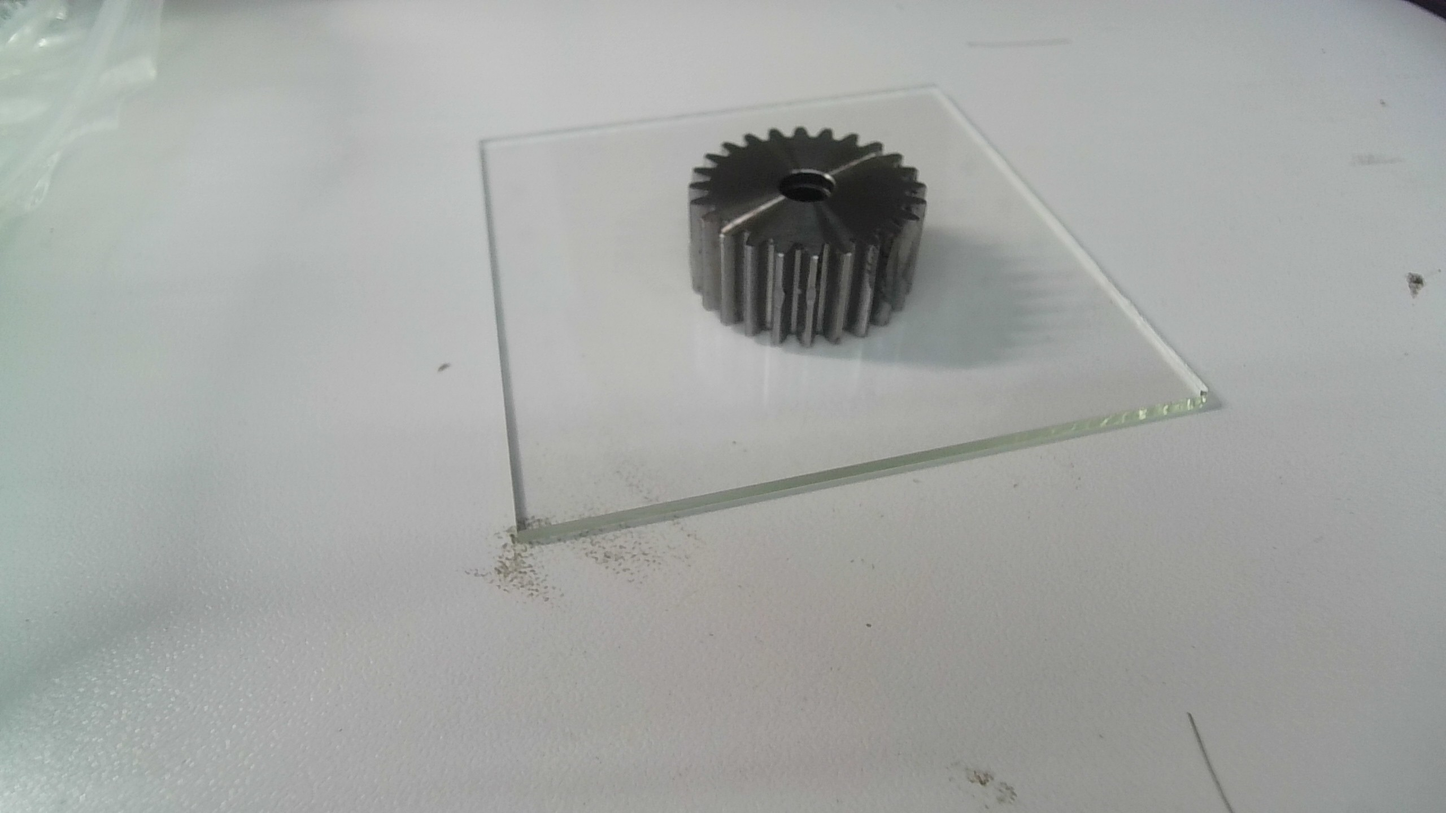gear: (683, 125, 931, 352)
